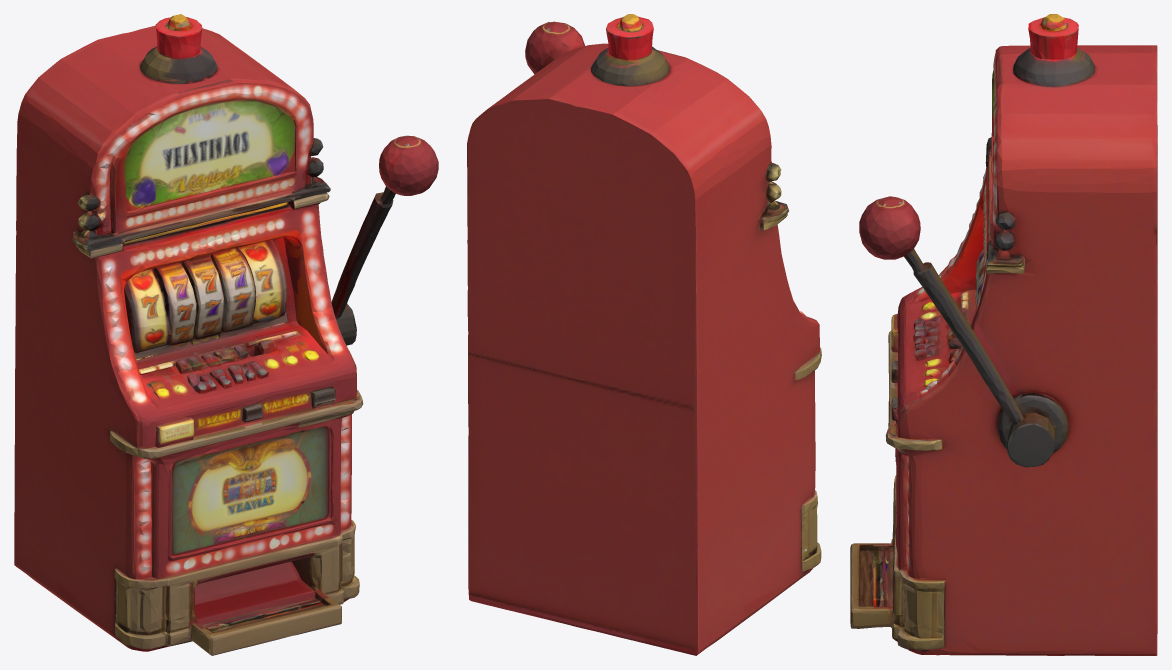
File: slot_machine.glb
The picture shows the model from 3 angles, left to right: view 1: azimuth 30°, elevation 25°; view 2: azimuth 150°, elevation 25°; view 3: azimuth 270°, elevation 25°; orthographic projection. The views are drawn at different scales.
Visible parts, largest first — view 1: temp; view 2: temp; view 3: temp.
Part boxes in pixels (x1=…): temp: x1=14, y1=14, x2=438, y2=655; temp: x1=467, y1=14, x2=821, y2=655; temp: x1=850, y1=14, x2=1157, y2=655.
Bounding box in the file's own units: 1.13 × 1.99 × 0.9478.
Materials: 1 (1 with a texture image).
